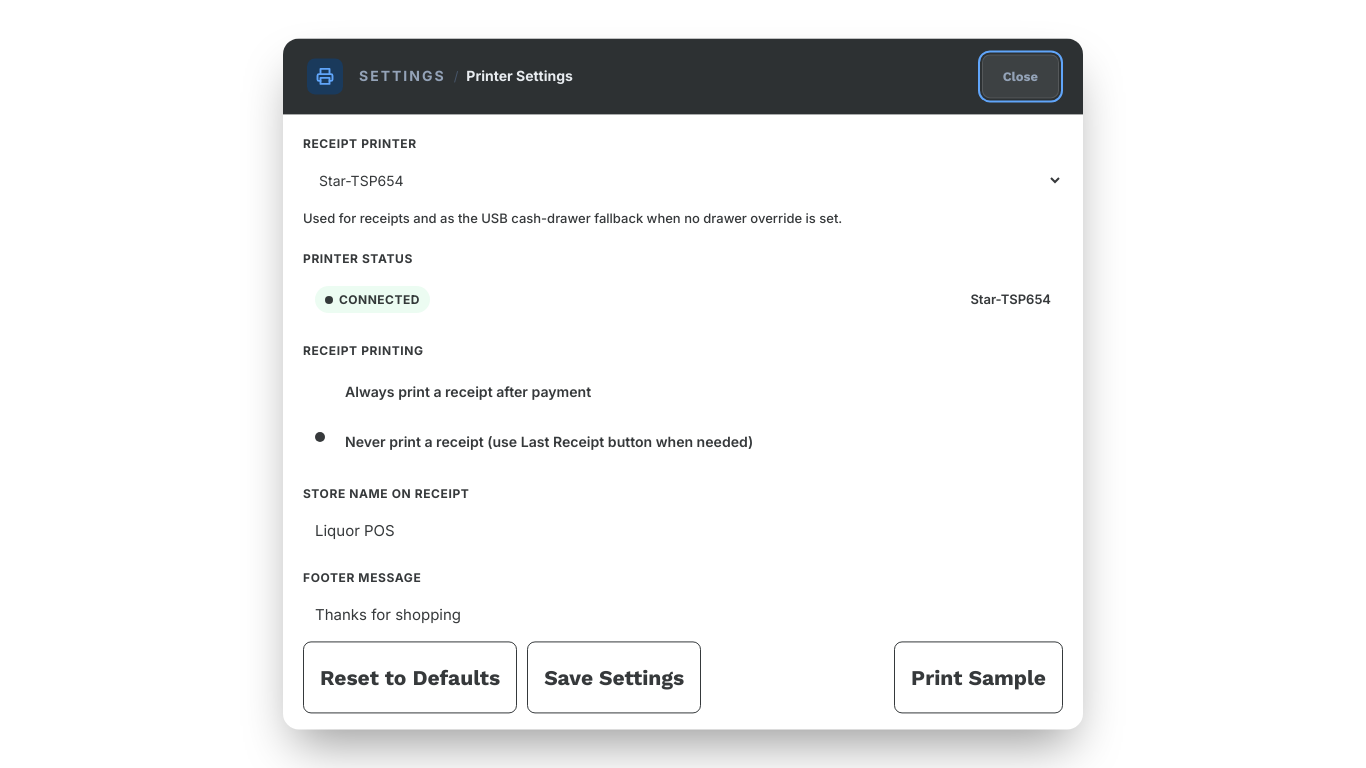
PrinterSettingsModal › resets editable fields to defaults
Replace the text in the field with placeholder "Leave blank to use merchant name" below "Store Name on Receipt" with "Temporary Name" at (683, 531), box [303,513,1063,548]
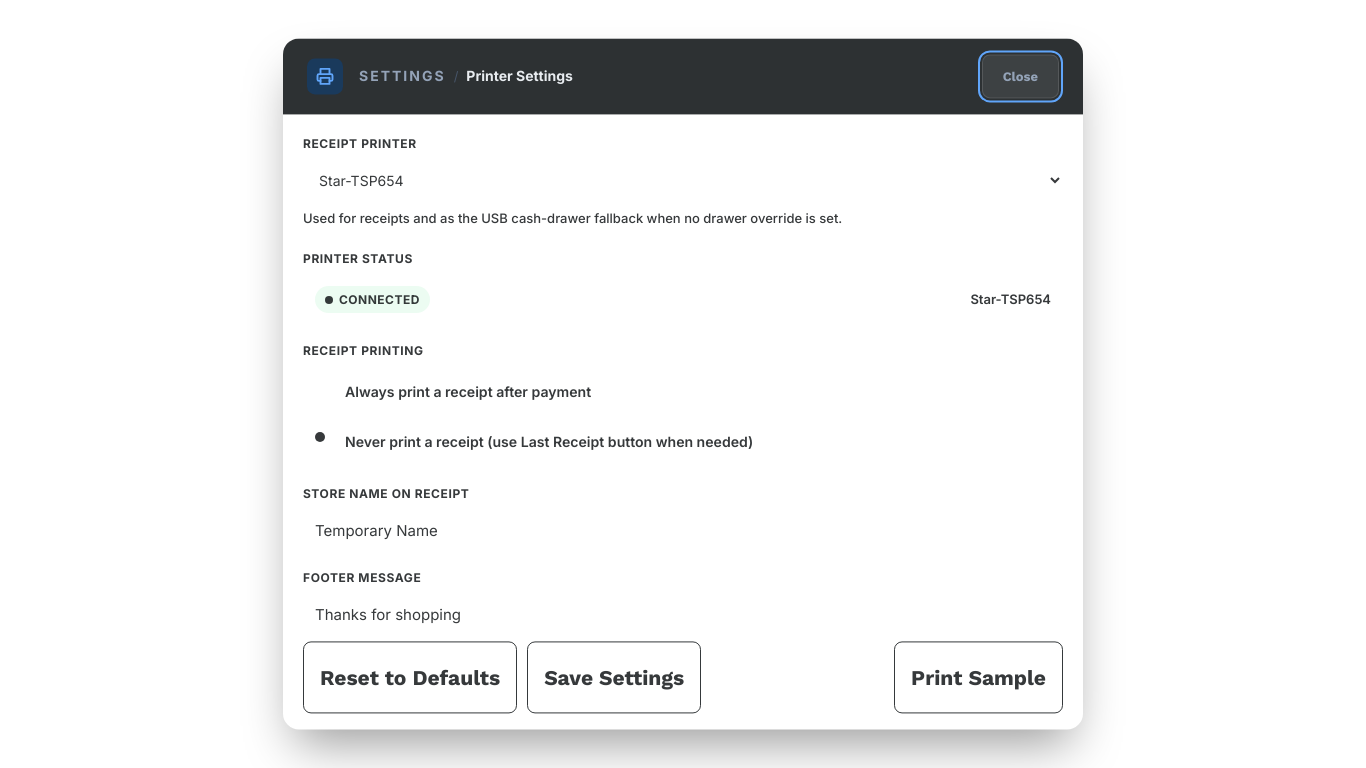
Replace the text in the field with placeholder "Optional message printed below barcode" below "Footer Message" with "Temporary Footer" at (683, 615), box [303,597,1063,632]
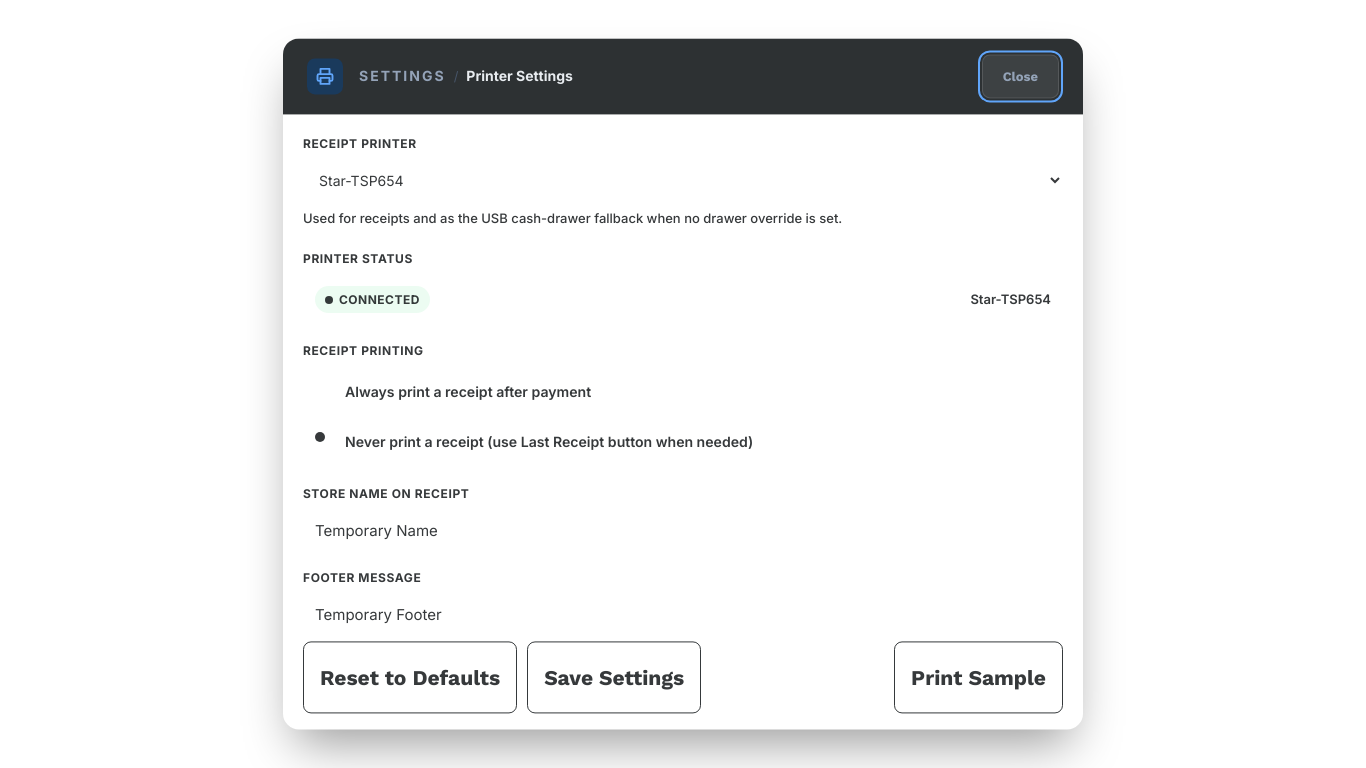
Click the button "Reset to Defaults" at (410, 678), box [303,642,517,714]
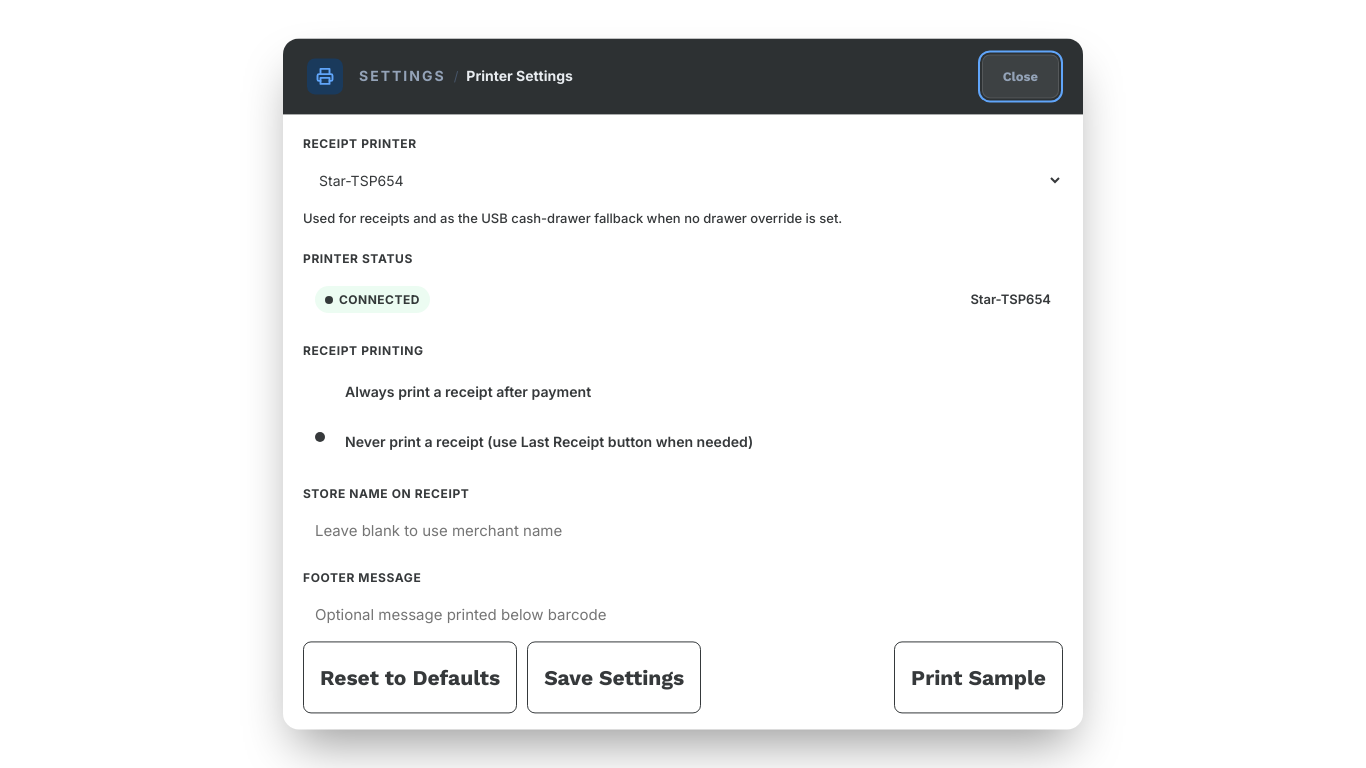
Result: the field with placeholder "Leave blank to use merchant name" is empty at [303,513,1063,548]
Result: the field with placeholder "Optional message printed below barcode" is empty at [303,597,1063,626]
